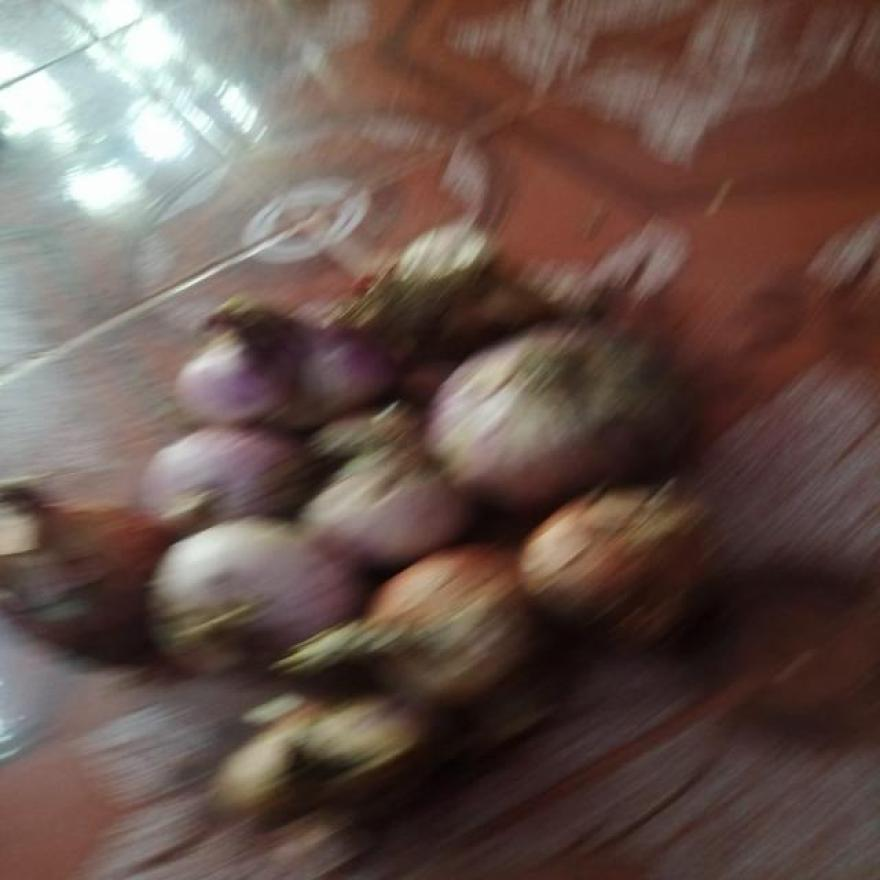Rotten: (280, 727, 357, 799)
